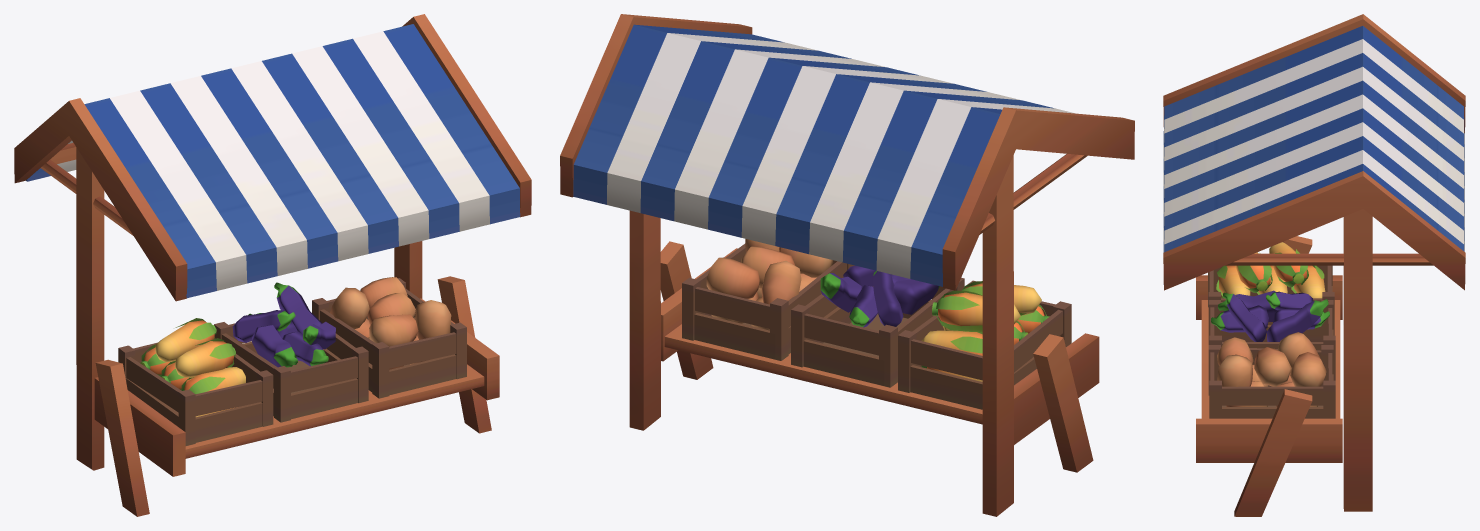
File: Vegetable Cart.fbx
3 renders of one model, left to right at view 1: azimuth 30°, elevation 25°; view 2: azimuth 150°, elevation 25°; view 3: azimuth 270°, elevation 25°, orthographic. The views are drawn at different scales.
Parts seen in each view (by area): view 1: Vegetable_Cart; view 2: Vegetable_Cart; view 3: Vegetable_Cart.
Boxes of the visible parts, x1,y1,x2,y2 form: Vegetable_Cart: (14,14,531,516); Vegetable_Cart: (560,14,1134,516); Vegetable_Cart: (1163,14,1465,516).
Size of the model in its own units: 261 by 256 by 205.
